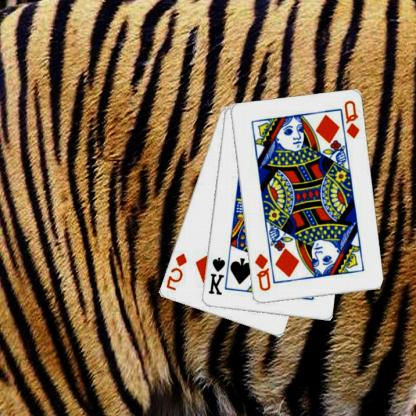5D: (165, 251, 189, 292)
KS: (207, 254, 228, 297)
QD: (342, 98, 362, 140), (253, 251, 273, 292)
